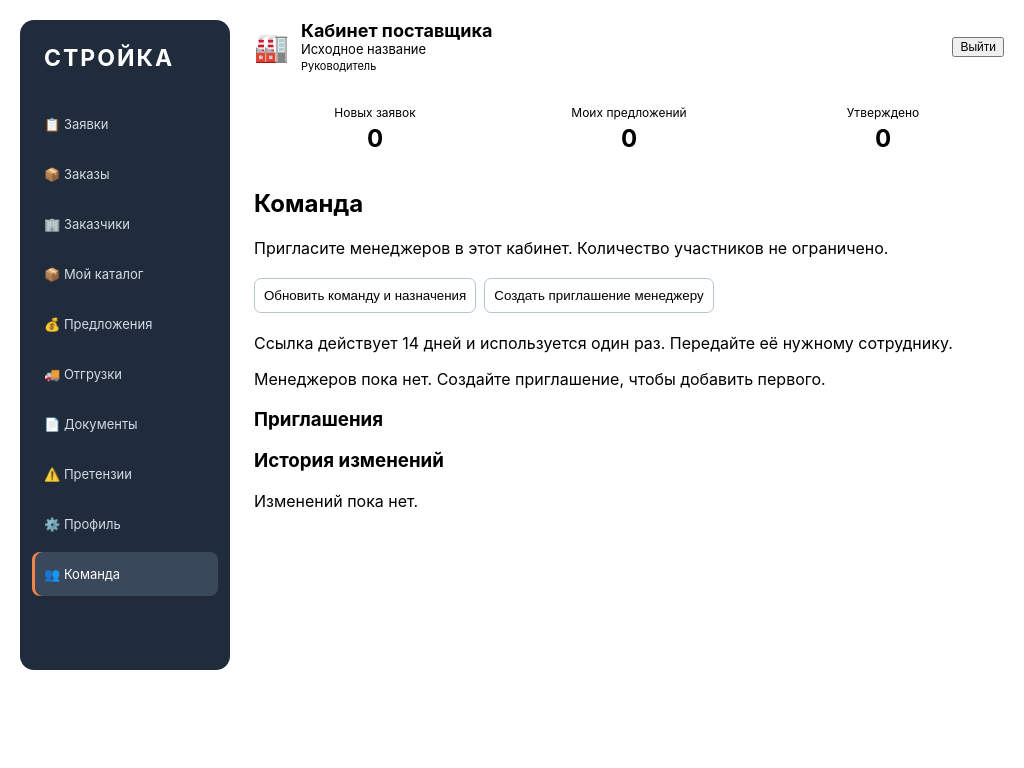
Test: retains invite retry UUID through a focus refresh after uncertain network result
Click the button "Создать приглашение менеджеру". click: coordinates (599, 295)
box: [484,278,714,313]
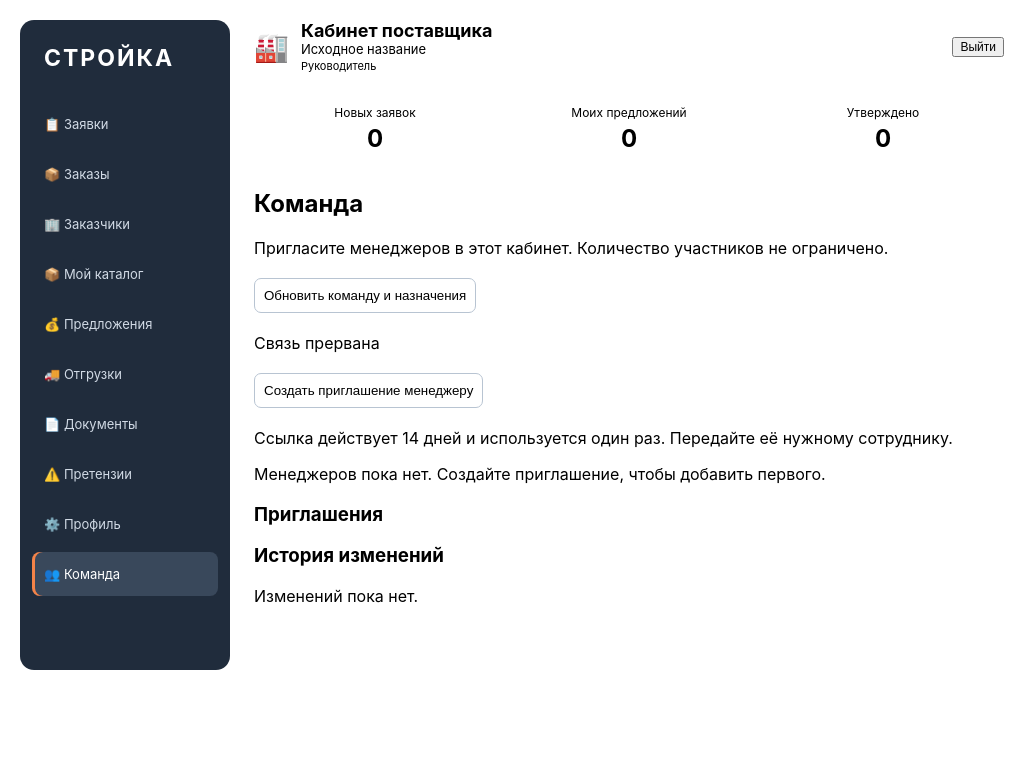
expect the text "Связь прервана" is shown: met, box [254,333,380,353]
Click the button "Создать приглашение менеджеру". click: coordinates (369, 390)
box: [254,373,483,408]
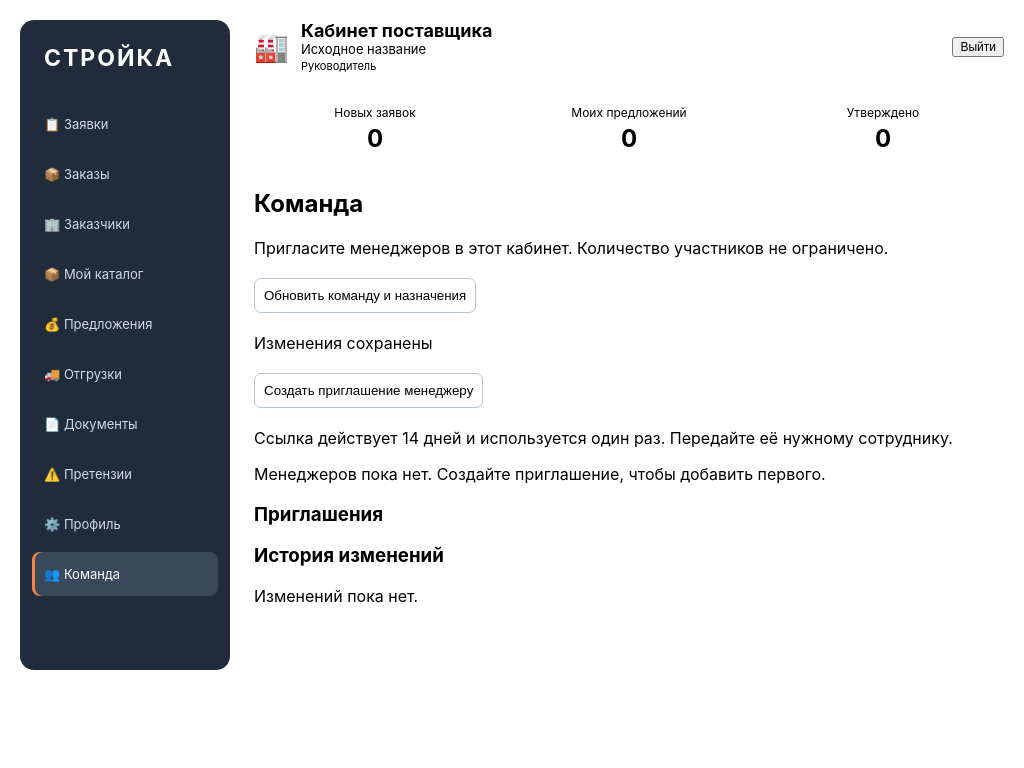
expect the text "Изменения сохранены" is shown: met, box [254,333,433,353]
